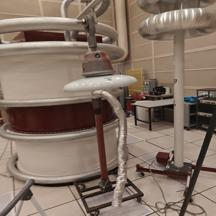insulator: (52, 43, 141, 94)
